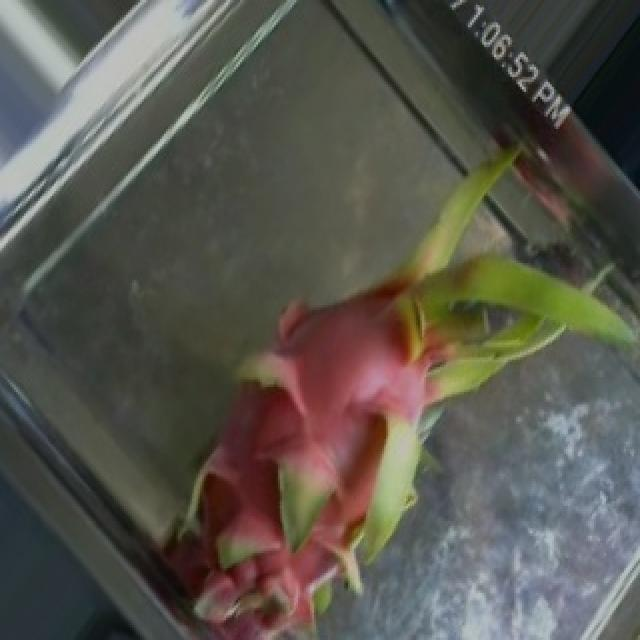fruit: (224, 15, 640, 427), (76, 238, 382, 640)
